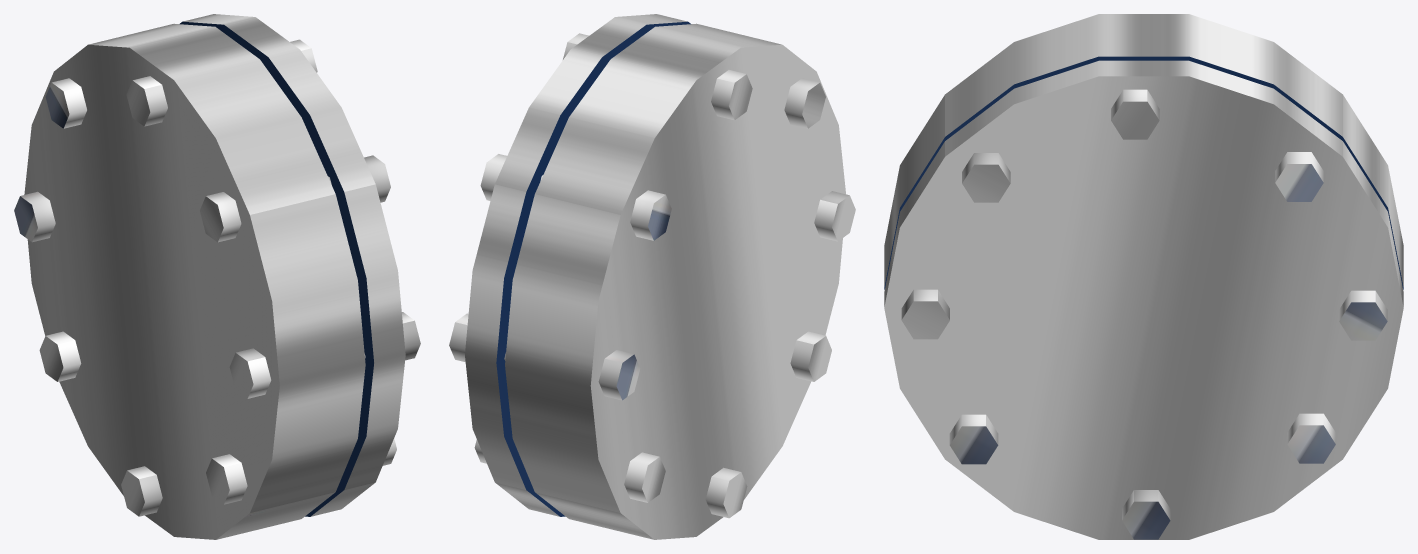
The model's file is 水管封口.obj.
The picture shows the model from 3 angles, left to right: view 1: azimuth 30°, elevation 25°; view 2: azimuth 150°, elevation 25°; view 3: azimuth 270°, elevation 25°; orthographic projection.
Parts seen in each view (by area): view 1: Cylinder399, Cylinder387, Cylinder393, Cylinder390, Cylinder392, Cylinder396, Cylinder389, Cylinder395, Cylinder391, Cylinder394; view 2: Cylinder399, Cylinder387, Cylinder391, Cylinder394, Cylinder392, Cylinder395, Cylinder389, Cylinder396, Cylinder390, Cylinder393; view 3: Cylinder387, Cylinder399, Cylinder396, Cylinder390, Cylinder391, Cylinder395, Cylinder392, Cylinder393, Cylinder394, Cylinder389.
Boxes of the visible parts, x1,y1,x2,y2 form: Cylinder399: (24, 23, 365, 539); Cylinder387: (179, 14, 405, 516); Cylinder393: (200, 155, 390, 242); Cylinder390: (229, 312, 420, 398); Cylinder392: (126, 39, 317, 126); Cylinder396: (206, 438, 396, 504); Cylinder389: (121, 466, 162, 516); Cylinder395: (39, 331, 81, 381); Cylinder391: (14, 191, 55, 242); Cylinder394: (45, 78, 86, 128); Cylinder399: (505, 23, 845, 539); Cylinder387: (465, 14, 690, 516); Cylinder391: (449, 313, 640, 400); Cylinder394: (480, 154, 671, 240); Cylinder392: (563, 33, 752, 120); Cylinder395: (474, 439, 665, 502); Cylinder389: (705, 467, 747, 518); Cylinder396: (790, 331, 831, 381); Cylinder390: (814, 191, 855, 241); Cylinder393: (784, 78, 825, 128); Cylinder387: (884, 60, 1403, 539); Cylinder399: (884, 14, 1403, 289); Cylinder396: (949, 414, 998, 464); Cylinder390: (901, 289, 949, 339); Cylinder391: (1339, 290, 1387, 340); Cylinder395: (1287, 413, 1335, 463); Cylinder392: (1111, 89, 1159, 139); Cylinder393: (962, 153, 1010, 202); Cylinder394: (1275, 152, 1323, 201); Cylinder389: (1122, 490, 1170, 539).
Size of the model in its own units: 11.6 by 30.26 by 30.72.
